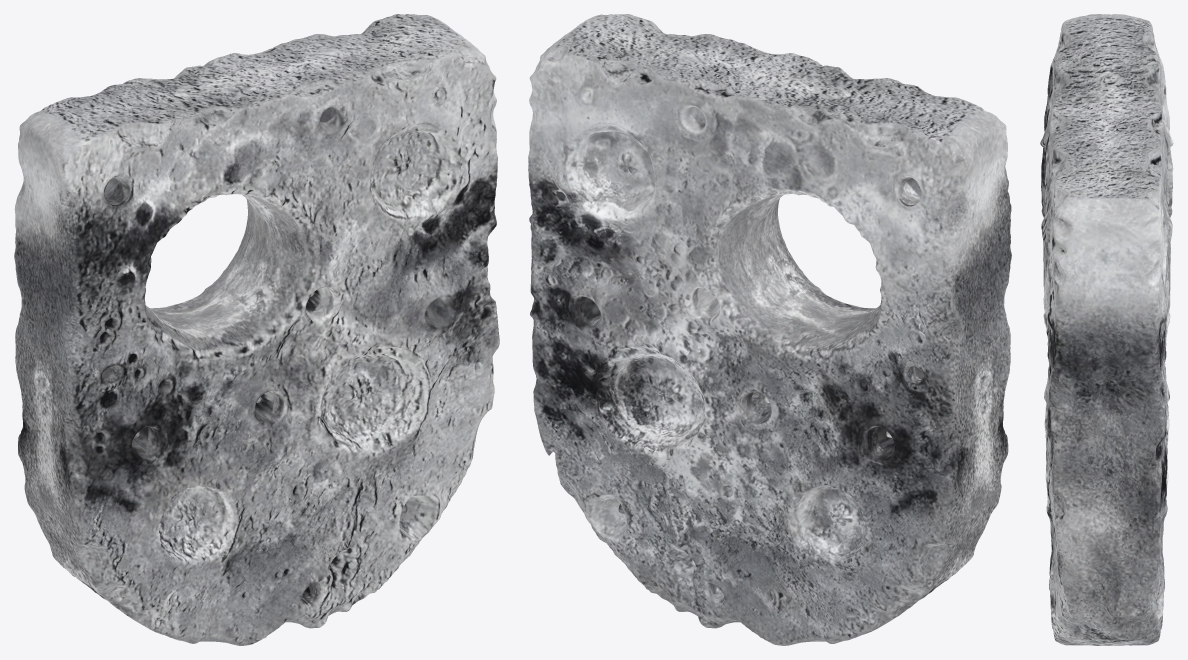
3 views of the same model, side by side, from view 1: azimuth 30°, elevation 25°; view 2: azimuth 150°, elevation 25°; view 3: azimuth 270°, elevation 25° (orthographic). The views are drawn at different scales.
Bounding box in the file's own units: 1.56 × 1.9 × 0.4389.
1 material, 1 textured.
